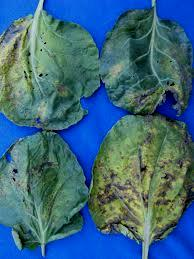Bok-Choy-Diseased: (0, 13, 105, 131), (99, 114, 192, 244), (99, 14, 194, 119), (1, 135, 95, 241)
